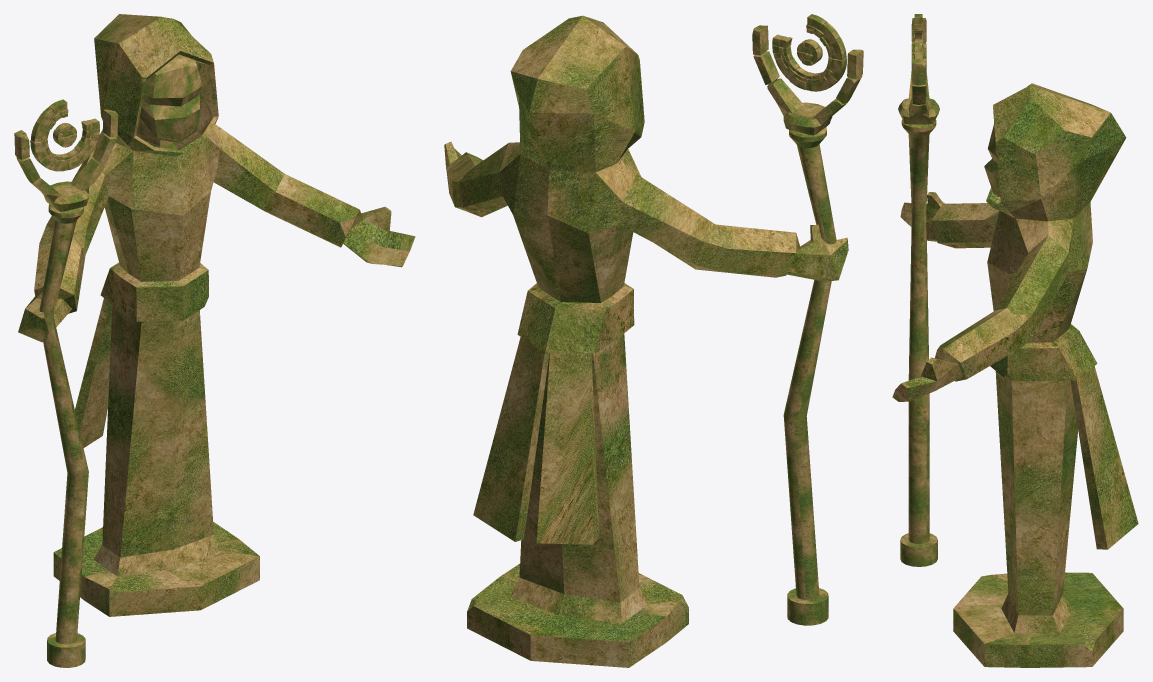
The model's file is healerStatue.fbx.
The picture shows the model from 3 angles, left to right: view 1: azimuth 30°, elevation 25°; view 2: azimuth 150°, elevation 25°; view 3: azimuth 270°, elevation 25°; orthographic projection. The views are drawn at different scales.
Visible parts, largest first — view 1: Cylinder, Cube, Cube.001, Wall.001; view 2: Cylinder, Cube, Wall.001; view 3: Cylinder, Cube, Cube.001, Wall.001.
Part boxes in pixels (x1,y1,x2,y2): Cylinder: [18, 14, 415, 616]; Cube: [14, 109, 118, 667]; Cube.001: [136, 54, 202, 149]; Wall.001: [30, 99, 99, 171]; Cylinder: [444, 15, 848, 667]; Cube: [752, 25, 863, 625]; Wall.001: [772, 14, 846, 91]; Cylinder: [892, 83, 1138, 667]; Cube: [898, 18, 939, 566]; Cube.001: [984, 123, 1000, 196]; Wall.001: [913, 14, 923, 58].
Size of the model in its own units: 228 by 315 by 129.
